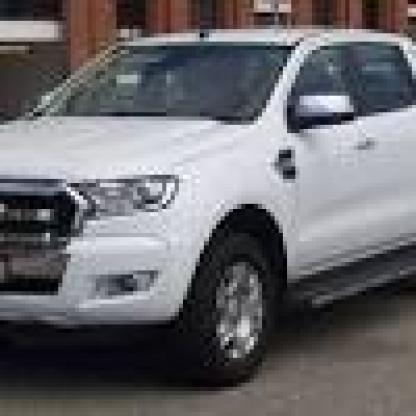light_vehicle: (0, 13, 412, 382)
